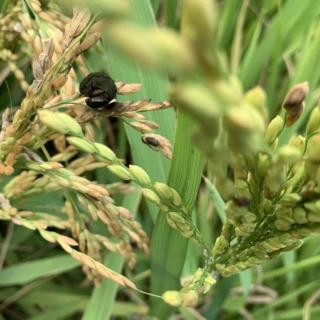Gosong-Palsu: (78, 70, 119, 110)
